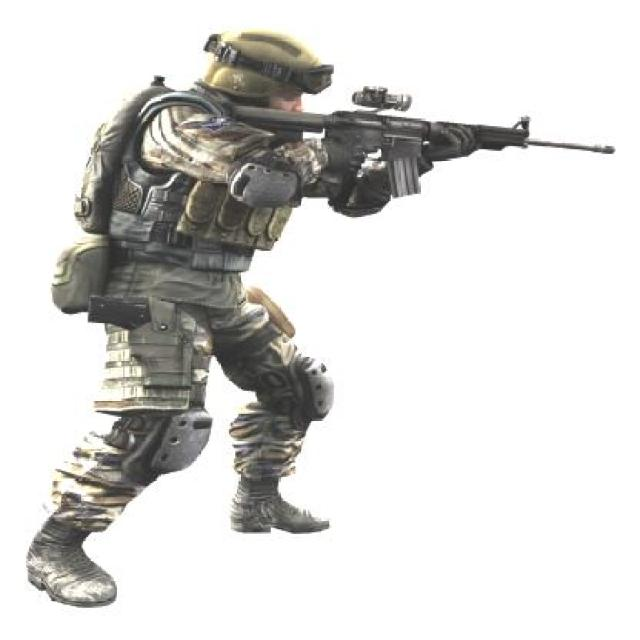MIL_Pax: (25, 26, 437, 612)
